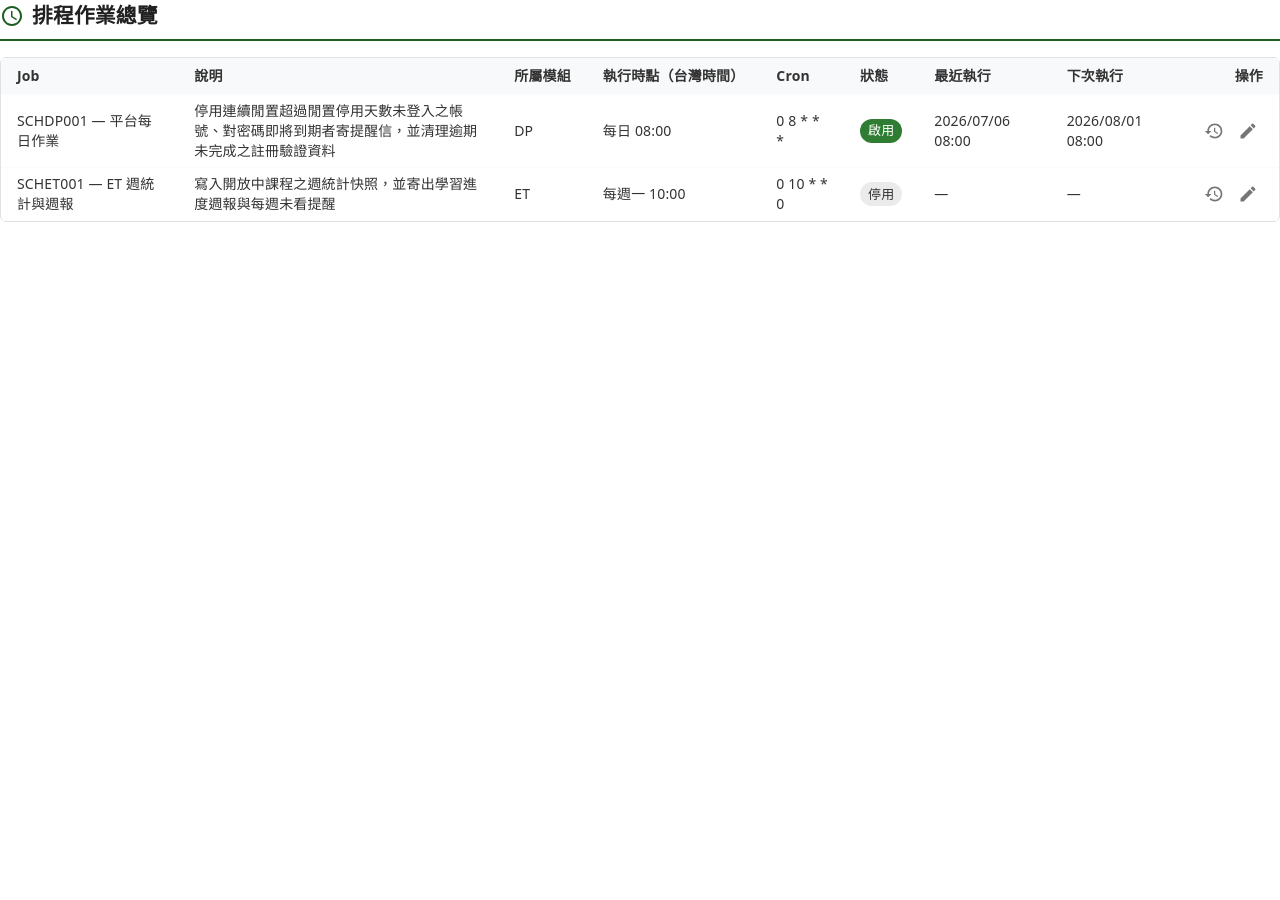
SchedulePage 排程作業總覽（可編輯） › 點編輯 → 表格下方展開編輯卡片（非 Modal、JOB_ID 唯讀）→ 改名儲存 → 成功提示
Expected: the text "SCHDP001 — 平台每日作業" is shown, left=1, top=95, right=178, bottom=168
Click the button named "編輯" in the row of "SCHDP001 — 平台每日作業".
click(1248, 131)  # box left=1233, top=116, right=1263, bottom=146
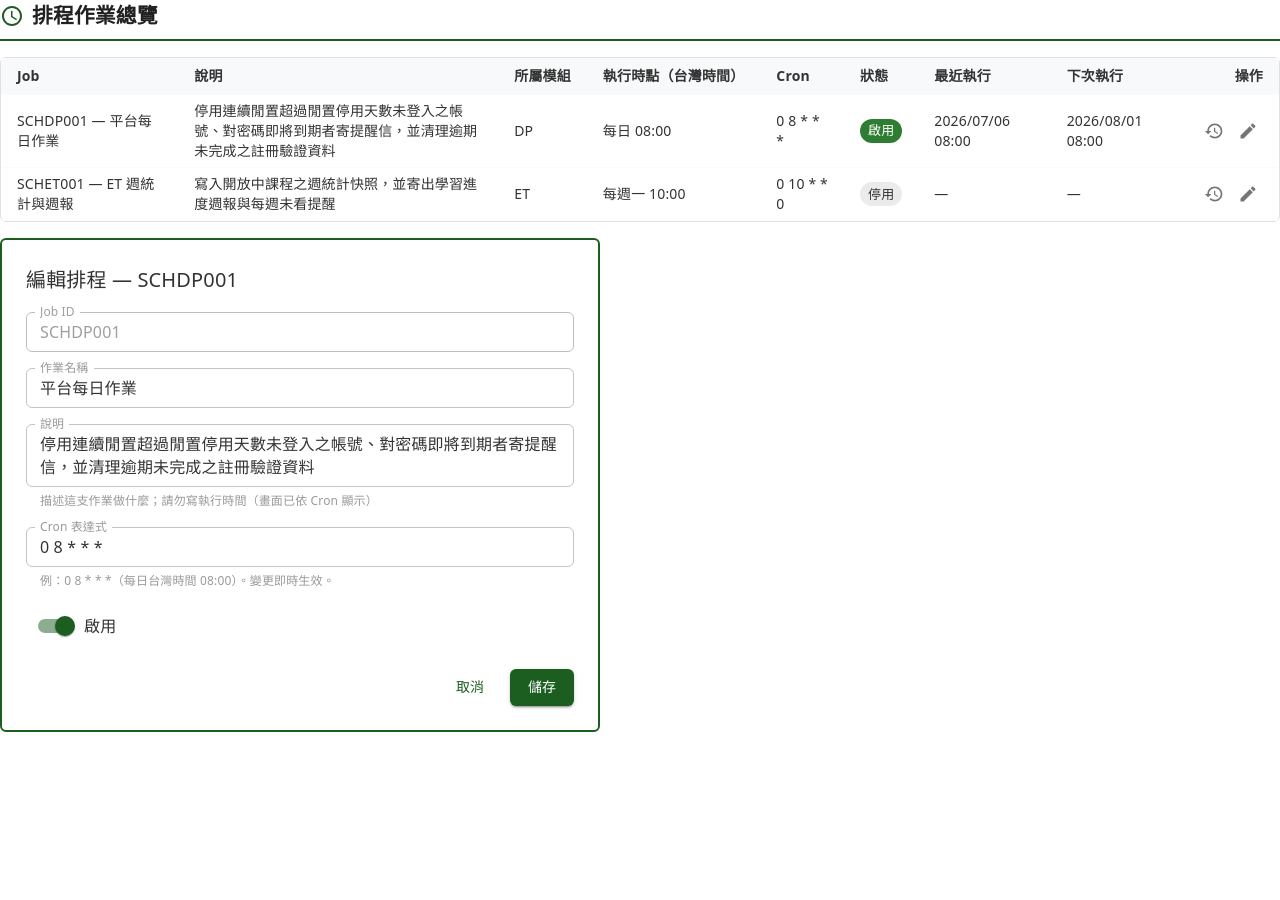
Expected: the heading "編輯排程 — SCHDP001" is shown, left=26, top=266, right=238, bottom=293
Expected: the field labelled "Job ID" is disabled, left=26, top=312, right=574, bottom=352
Replace the text in the field labelled "作業名稱" with "平台每日作業（改）" at (300,388), box left=26, top=368, right=574, bottom=408
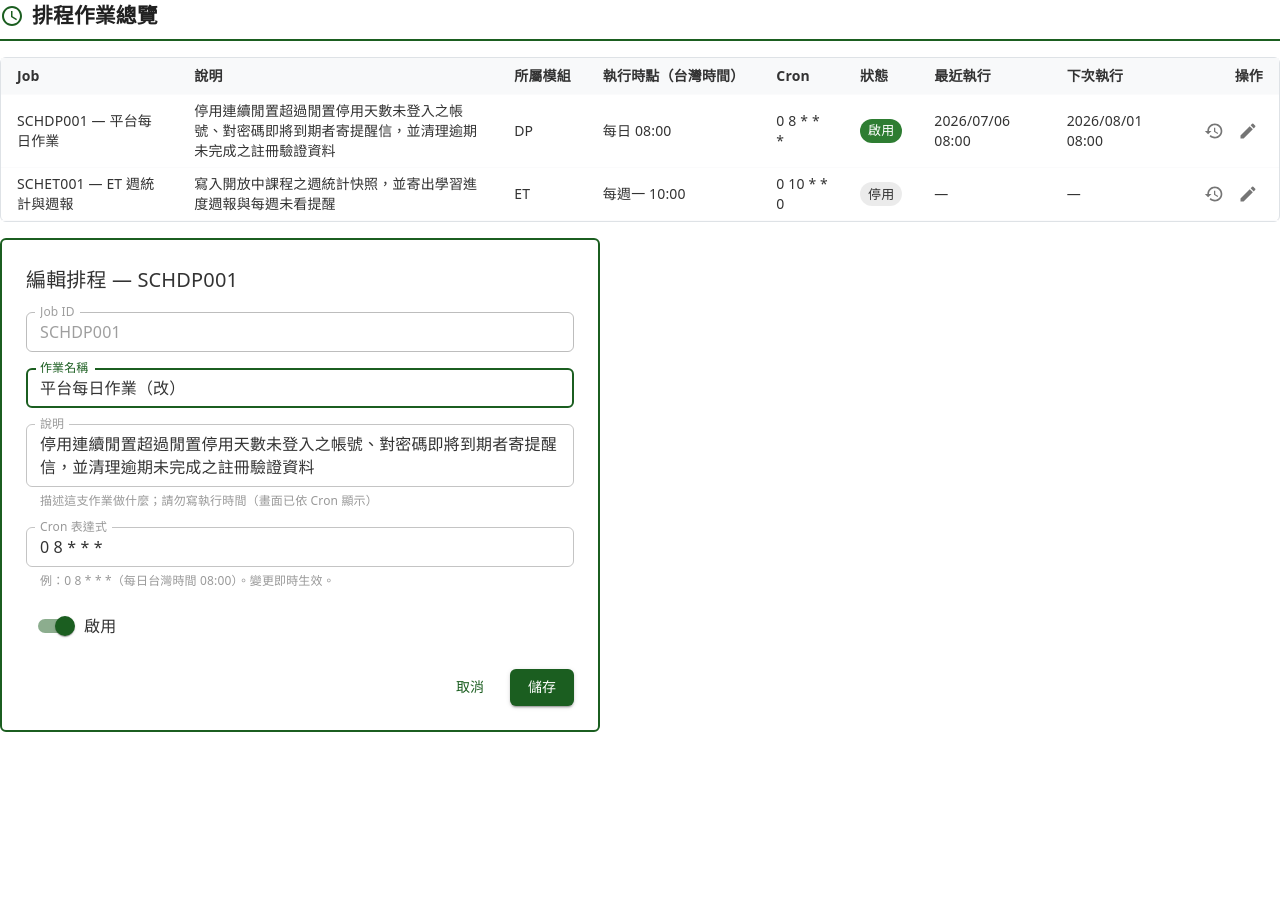
Click the button "儲存".
click(542, 687)  # box left=510, top=669, right=574, bottom=706
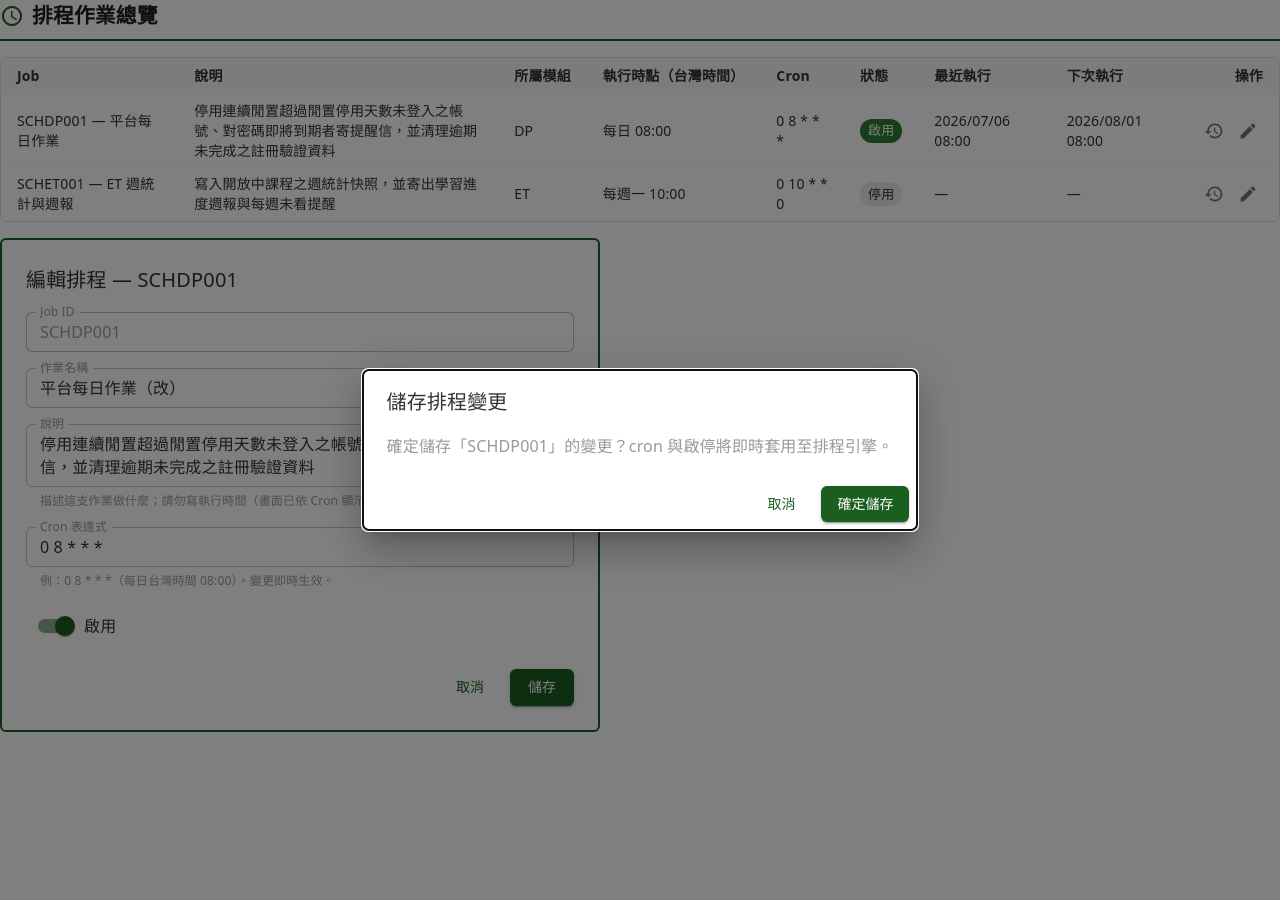
Click the button "確定儲存".
click(865, 504)  # box left=821, top=486, right=909, bottom=522
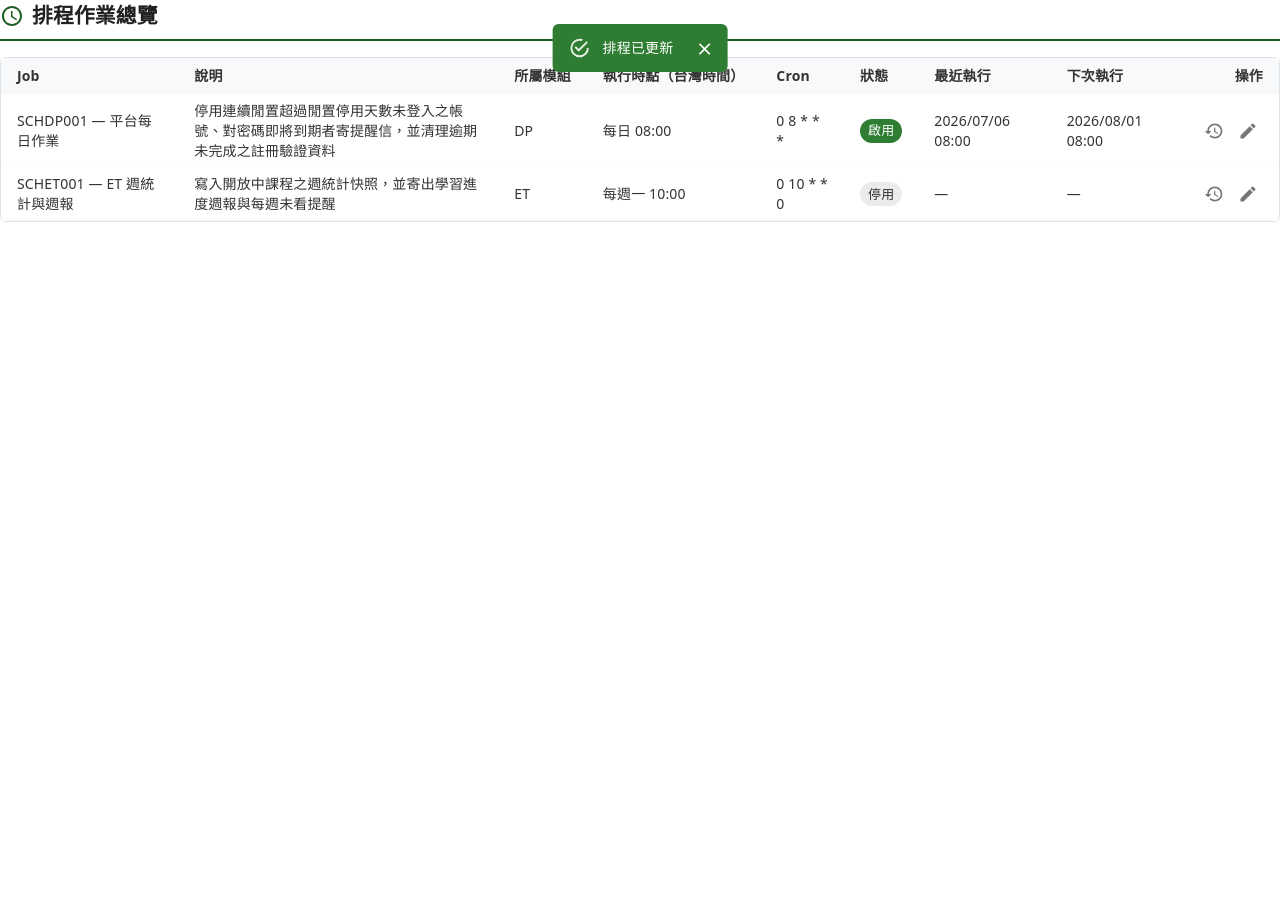
Expected: the text "排程已更新" is shown, left=603, top=38, right=673, bottom=57
